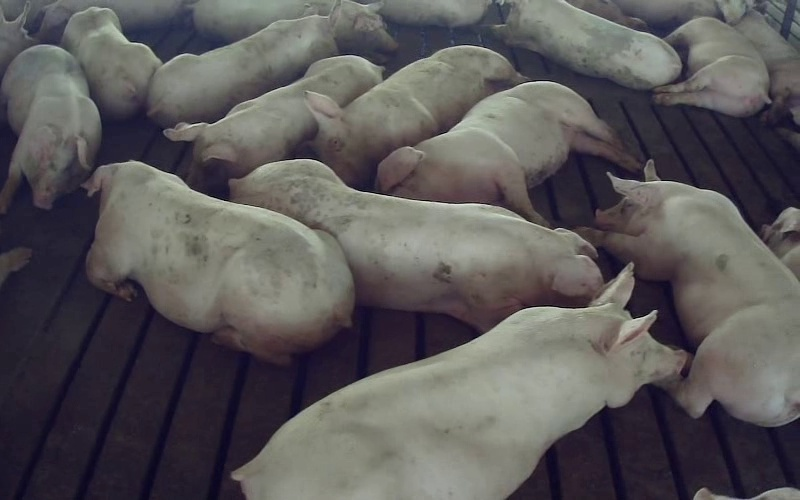pig: (233, 265, 687, 499), (579, 160, 799, 426), (86, 162, 354, 363), (377, 82, 640, 226), (306, 45, 526, 189), (164, 55, 382, 196), (147, 4, 340, 127), (0, 45, 100, 213), (494, 0, 681, 89), (653, 17, 770, 116), (61, 7, 161, 119), (734, 10, 799, 123)
